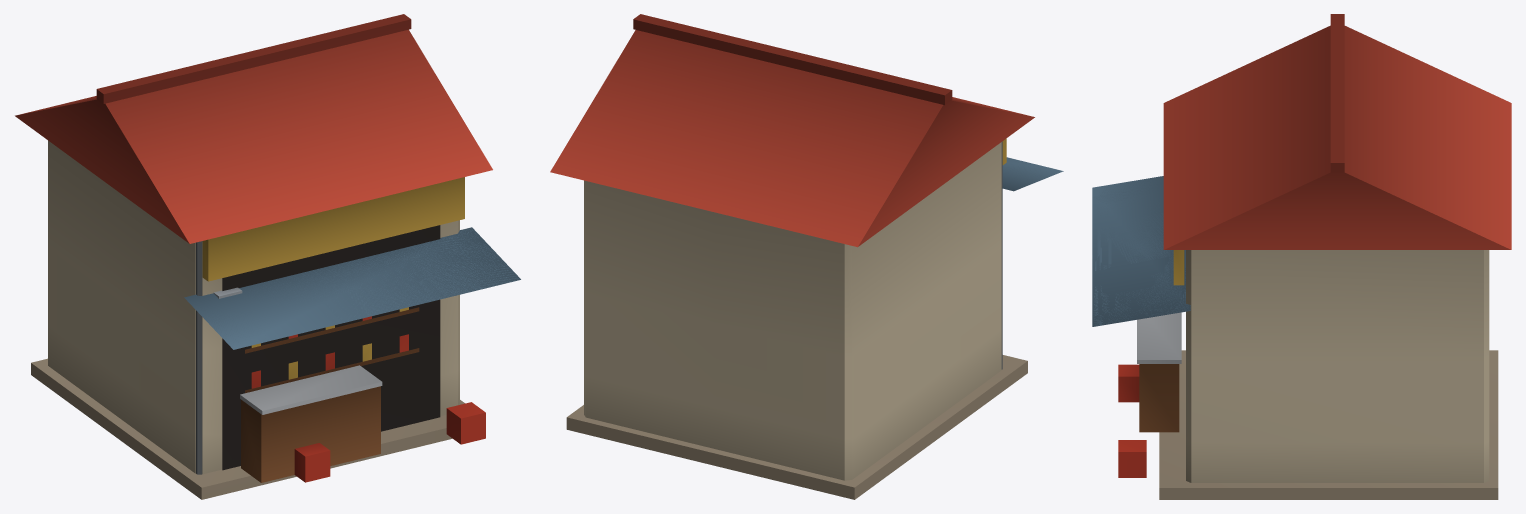
The model's file is tiem-1-tang.glb.
The picture shows the model from 3 angles, left to right: view 1: azimuth 30°, elevation 25°; view 2: azimuth 150°, elevation 25°; view 3: azimuth 270°, elevation 25°; orthographic projection. The views are drawn at different scales.
Parts seen in each view (by area): view 1: tiem-1-tang; view 2: tiem-1-tang; view 3: tiem-1-tang.
Boxes of the visible parts, x1=… form: tiem-1-tang: x1=15, y1=14, x2=520, y2=499; tiem-1-tang: x1=550, y1=14, x2=1063, y2=499; tiem-1-tang: x1=1092, y1=14, x2=1511, y2=499.
Size of the model in its own units: 3.95 by 4.24 by 4.7.
